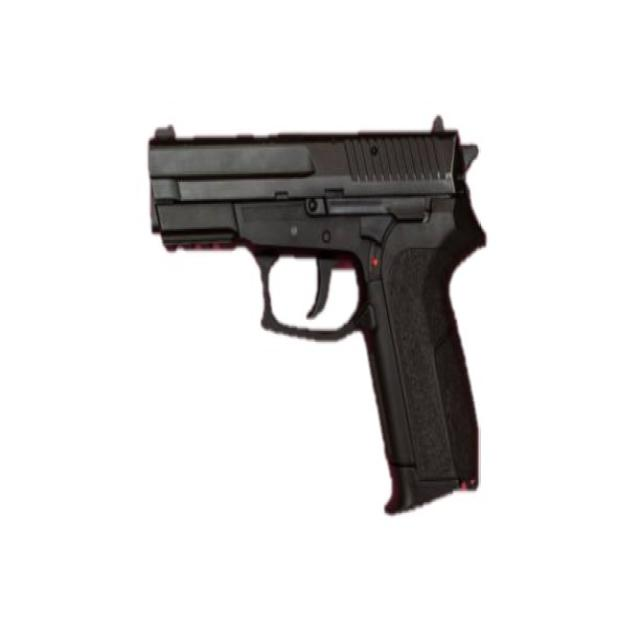pistol: (144, 114, 492, 527)
